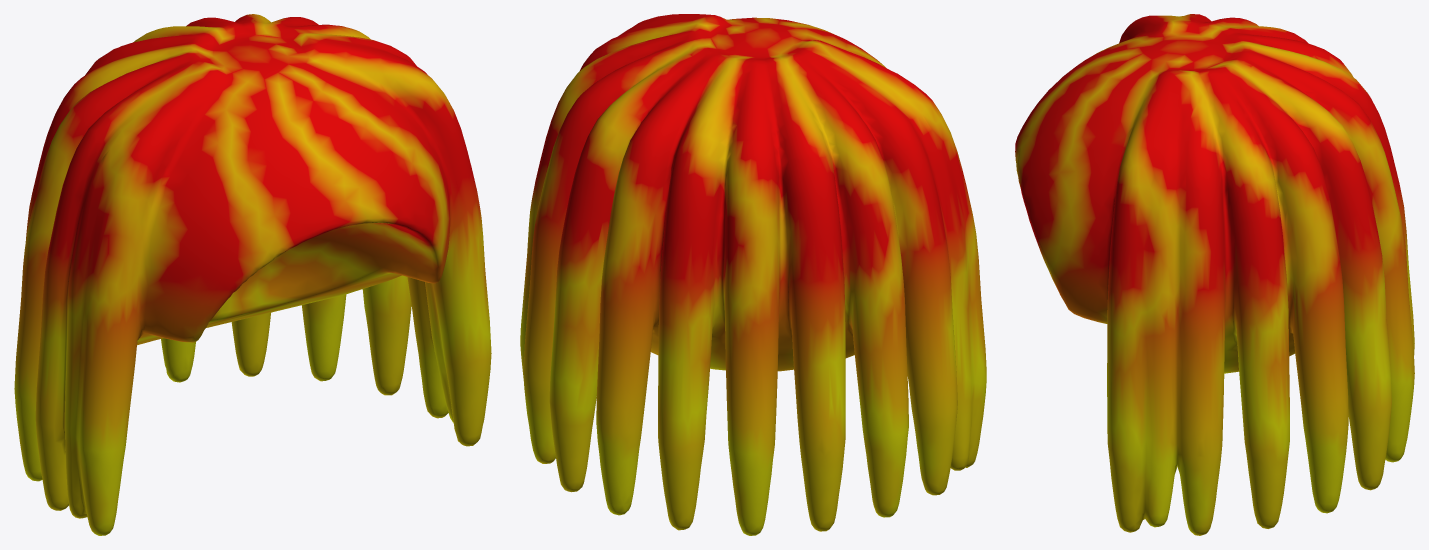
File: lob.glb
3 renders of one model, left to right at view 1: azimuth 30°, elevation 25°; view 2: azimuth 150°, elevation 25°; view 3: azimuth 270°, elevation 25°, orthographic. The views are drawn at different scales.
Visible parts, largest first — view 1: part; view 2: part; view 3: part.
Part boxes in pixels (x1,y1,x2,y2): part: [14, 14, 491, 535]; part: [520, 14, 986, 535]; part: [1015, 14, 1414, 535].
Bounding box in the file's own units: 2.74 × 2.61 × 2.37.
